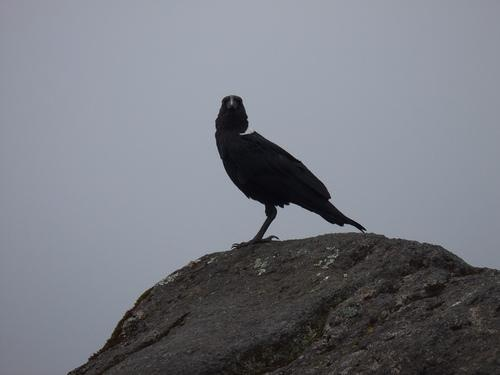bird: (214, 92, 364, 243)
